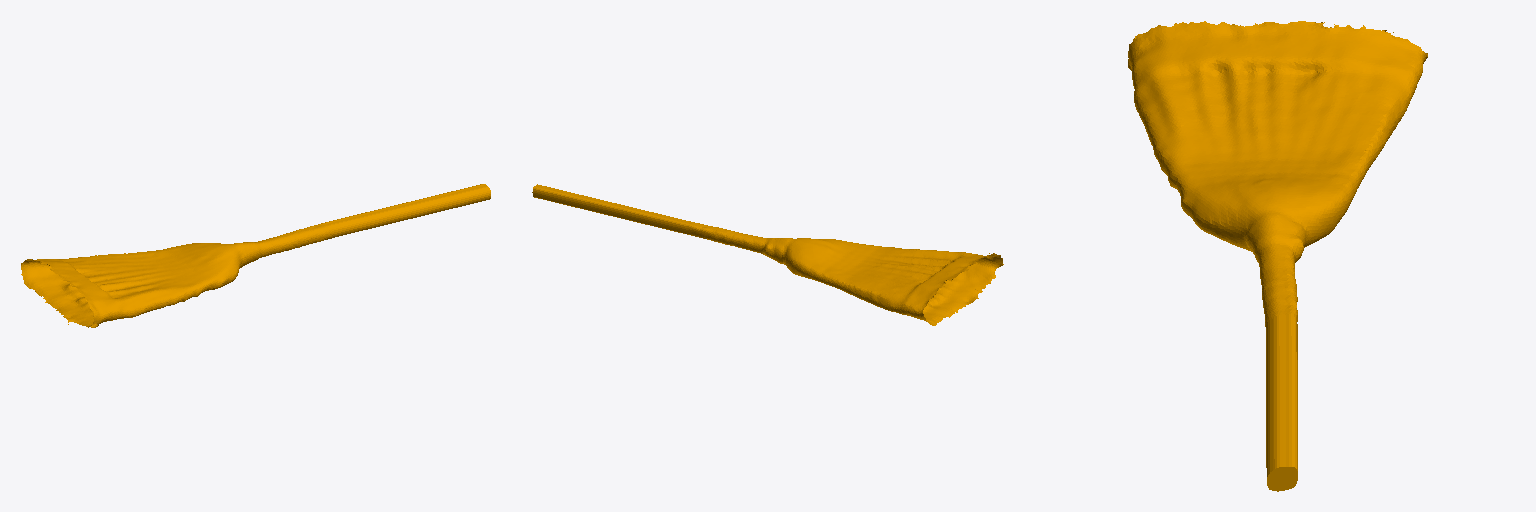
The robot description file, URDF, robot "broom":
<robot name="broom">
  <link name="broom">
    <inertial>
      <origin xyz="0 0 0.0145"/>
      <mass value="0.1" />
      <inertia  ixx="0.0001" ixy="0.0"  ixz="0.0"  iyy="0.0001"  iyz="0.0"  izz="0.0001" />
    </inertial>
    <visual>
      <origin xyz="0 0 0.0145"/>
      <geometry>        
     <mesh filename="broom.dae" scale="1 1 1"/>
    </geometry>
    </visual>
    <collision>
      <origin xyz="0 0 0.0145"/>
      <geometry>
        <box size="0.029 0.029 0.029"/>
      </geometry>
    </collision>
  </link>
  <gazebo reference="broom">
    <material>Gazebo/Blue</material>
  </gazebo>
</robot>

--- Facts derived from the render (not from the file) ---
3 views of the same robot in one strip: view 1: azimuth 30°, elevation 25°; view 2: azimuth 150°, elevation 25°; view 3: azimuth 270°, elevation 25° (orthographic).
Robot: broom — 1 links, 0 joints (none); root link broom; default pose: every joint at zero.
Links seen in each view (by area): view 1: broom; view 2: broom; view 3: broom.
Link boxes in pixels (x1,y1,x2,y2): broom: (21,184,490,327); broom: (532,184,1003,325); broom: (1128,21,1427,491).
Size in the robot's own frame: 1.41 by 0.4347 by 0.123 metres.
Meshes: 1 distinct files referenced, 1 mesh visuals loaded (1 Collada DAE).